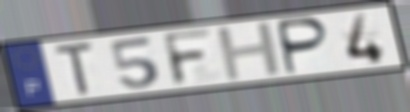4: (344, 13, 387, 66)
5: (107, 35, 163, 91)
F: (159, 27, 216, 88)
H: (213, 19, 286, 84)
P: (277, 16, 332, 77)
T: (51, 40, 98, 98)
